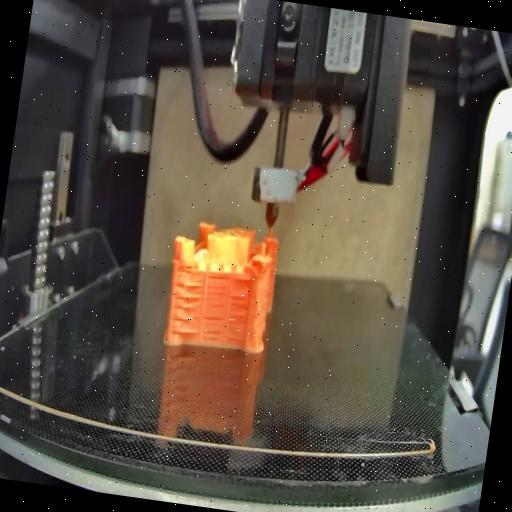cracks: (168, 280, 206, 338), (224, 292, 251, 344), (202, 287, 228, 340), (208, 270, 230, 284), (234, 276, 252, 286)
